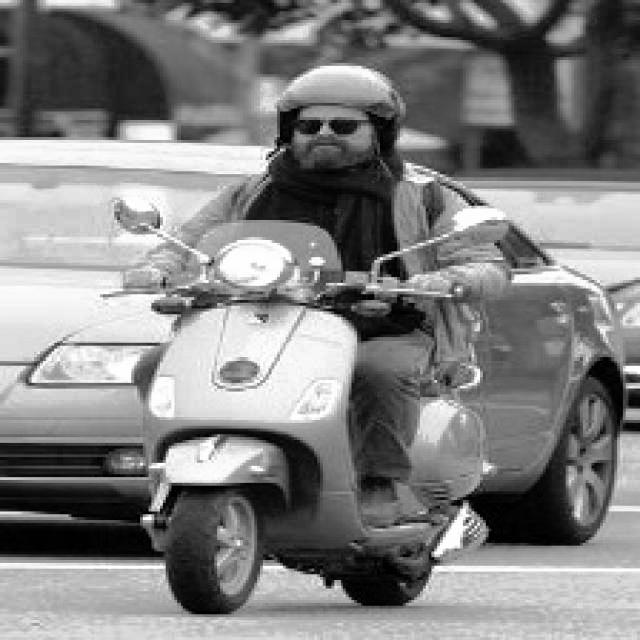Bike: (145, 234, 385, 617)
